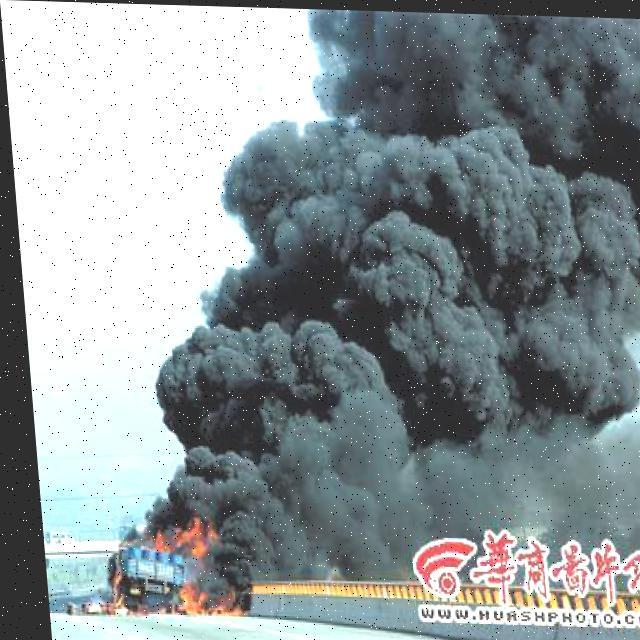Fire: (80, 506, 264, 620)
